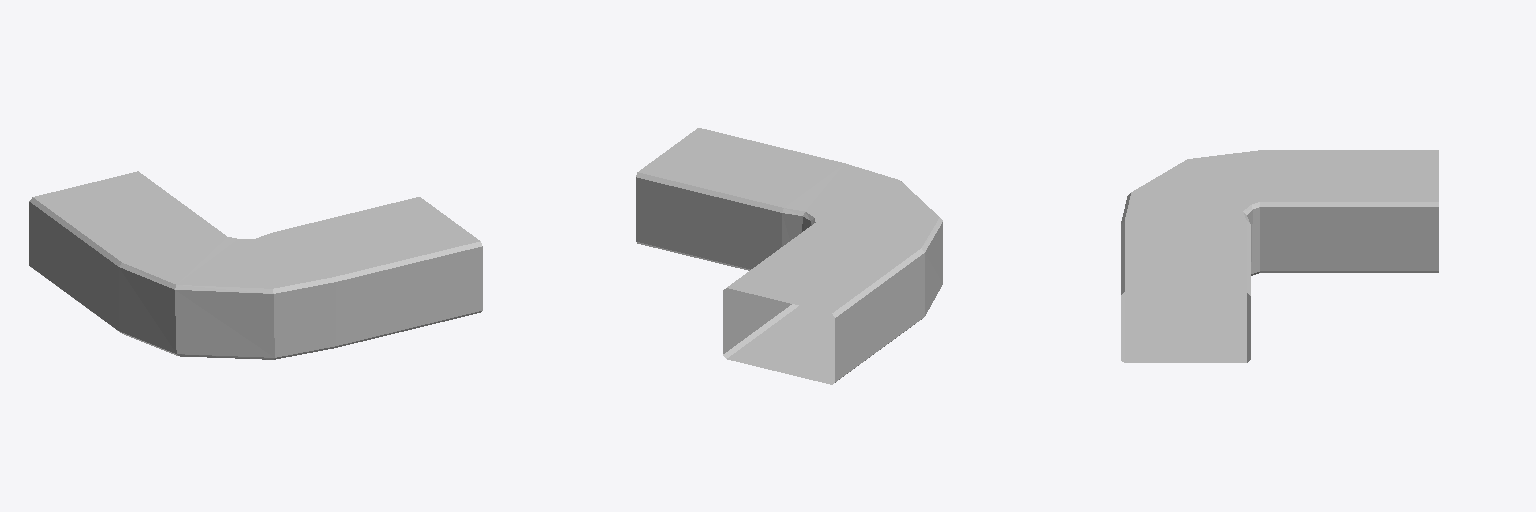
The model's file is turn.obj.
3 renders of one model, left to right at view 1: azimuth 30°, elevation 25°; view 2: azimuth 150°, elevation 25°; view 3: azimuth 270°, elevation 25°, orthographic.
Visible parts, largest first — view 1: pCube31 vents; view 2: pCube31 vents; view 3: pCube31 vents.
Part boxes in pixels (bbox=[...]): pCube31 vents: bbox=[29, 171, 482, 359]; pCube31 vents: bbox=[636, 128, 942, 384]; pCube31 vents: bbox=[1121, 150, 1438, 362].
Size of the model in its own units: 402 by 93.18 by 377.